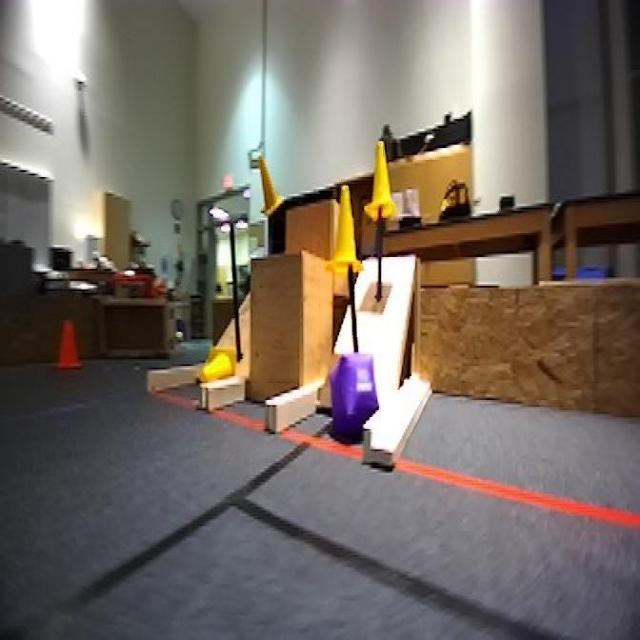frc_cone: (328, 180, 366, 270), (366, 140, 397, 220), (255, 153, 283, 220), (200, 346, 238, 386)
frc_cube: (327, 350, 378, 440)
